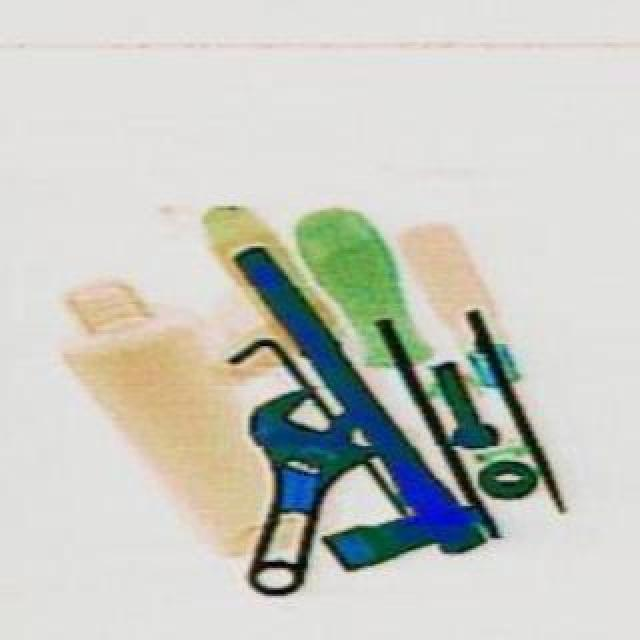scissors: (198, 370, 384, 608)
